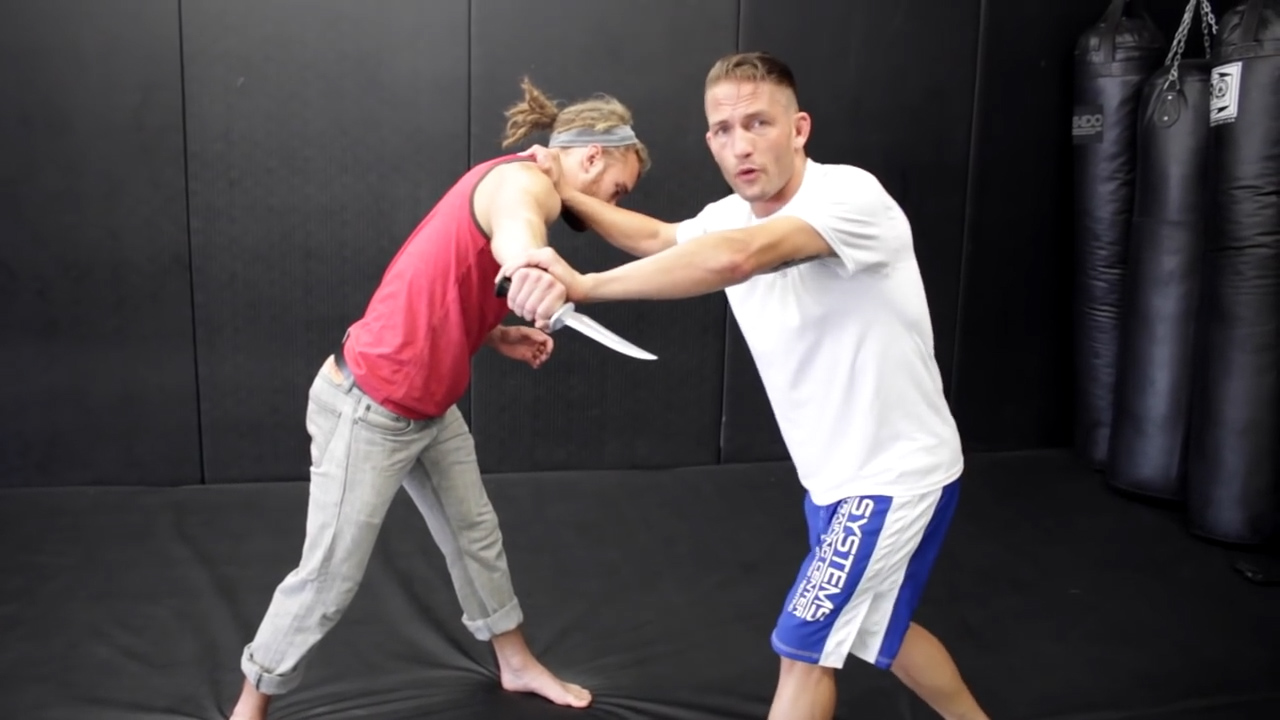knife: (486, 268, 670, 371)
